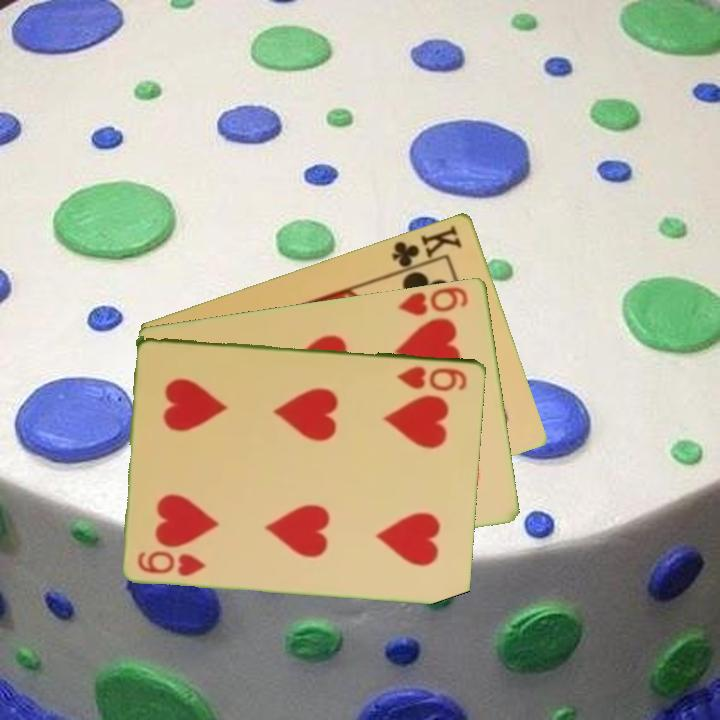6h: (395, 283, 472, 318), (394, 362, 470, 394), (134, 547, 209, 579)
Kc: (388, 221, 465, 275)
